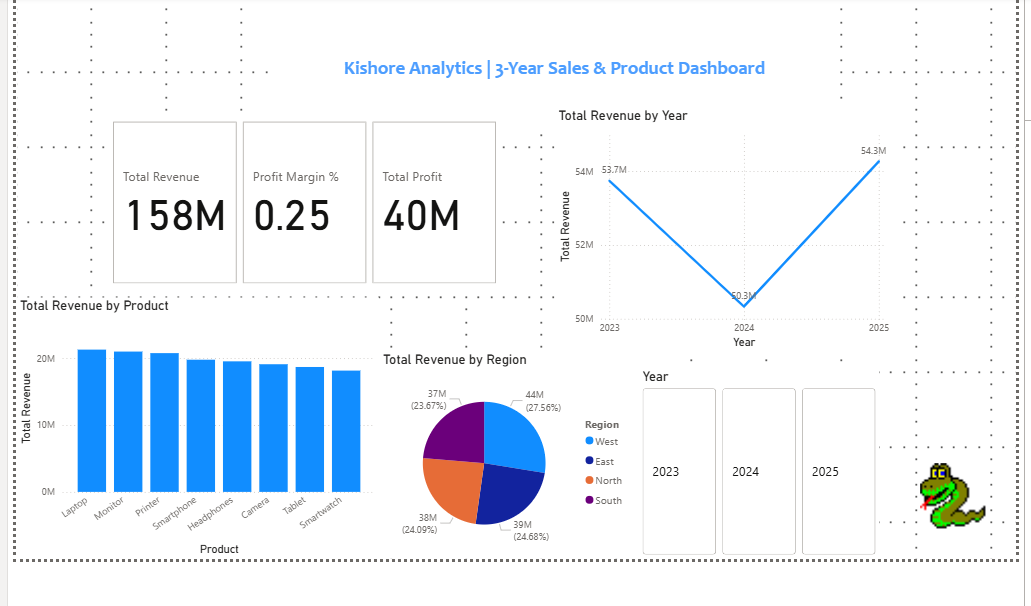

Layout of this report page (visuals, bound fields, positions):
{"tool":"powerbi","page":{"name":"Overview","canvas":[1280,720],"ordinal":0},"visuals":[{"type":"textbox","box":[325,0,729.5,172],"z":0},{"type":"cardVisual","fields":{"Data":["Sales_Data_3Years.Total Revenue","Sales_Data_3Years.Profit Margin %","Sales_Data_3Years.Total Profit"]},"box":[119.1,155,502.7,217.3],"z":1},{"type":"lineChart","fields":{"Category":["Sales_Data_3Years.Order_Date.Variation.Date Hierarchy.Year","Sales_Data_3Years.Order_Date.Variation.Date Hierarchy.Quarter","Sales_Data_3Years.Order_Date.Variation.Date Hierarchy.Month","Sales_Data_3Years.Order_Date.Variation.Date Hierarchy.Day"],"Y":["Sales_Data_3Years.Total Revenue"]},"box":[689.8,141.7,432.8,313.7],"z":2},{"type":"columnChart","fields":{"Category":["Sales_Data_3Years.Product"],"Y":["Sales_Data_3Years.Total Revenue"]},"box":[0,385.5,464.9,334.5],"z":3},{"type":"pieChart","fields":{"Category":["Sales_Data_3Years.Region"],"Y":["Sales_Data_3Years.Total Revenue"]},"box":[464.9,455.4,332.6,264.6],"z":4},{"type":"advancedSlicerVisual","fields":{"Values":["Sales_Data_3Years.Year"]},"box":[797.5,476.2,308,243.8],"z":5},{"type":"image","box":[1152,560,96,160],"z":6}]}

Visuals, with their boxes on the page's 1280x720 design canvas (x1, y1, x2, y2). These are canvas units, not pixel positions in the 1031x606 screenshot, which may show the page scaled, cropped or inside an application window:
textbox: crop(325, 0, 1054, 172)
cardVisual - Sales_Data_3Years.Total Revenue x Sales_Data_3Years.Profit Margin %: crop(119, 155, 622, 372)
lineChart - Sales_Data_3Years.Order_Date.Variation.Date Hierarchy.Year x Sales_Data_3Years.Order_Date.Variation.Date Hierarchy.Quarter: crop(690, 142, 1123, 455)
columnChart - Sales_Data_3Years.Product x Sales_Data_3Years.Total Revenue: crop(0, 386, 465, 720)
pieChart - Sales_Data_3Years.Region x Sales_Data_3Years.Total Revenue: crop(465, 455, 798, 720)
advancedSlicerVisual - Sales_Data_3Years.Year: crop(798, 476, 1106, 720)
image: crop(1152, 560, 1248, 720)
